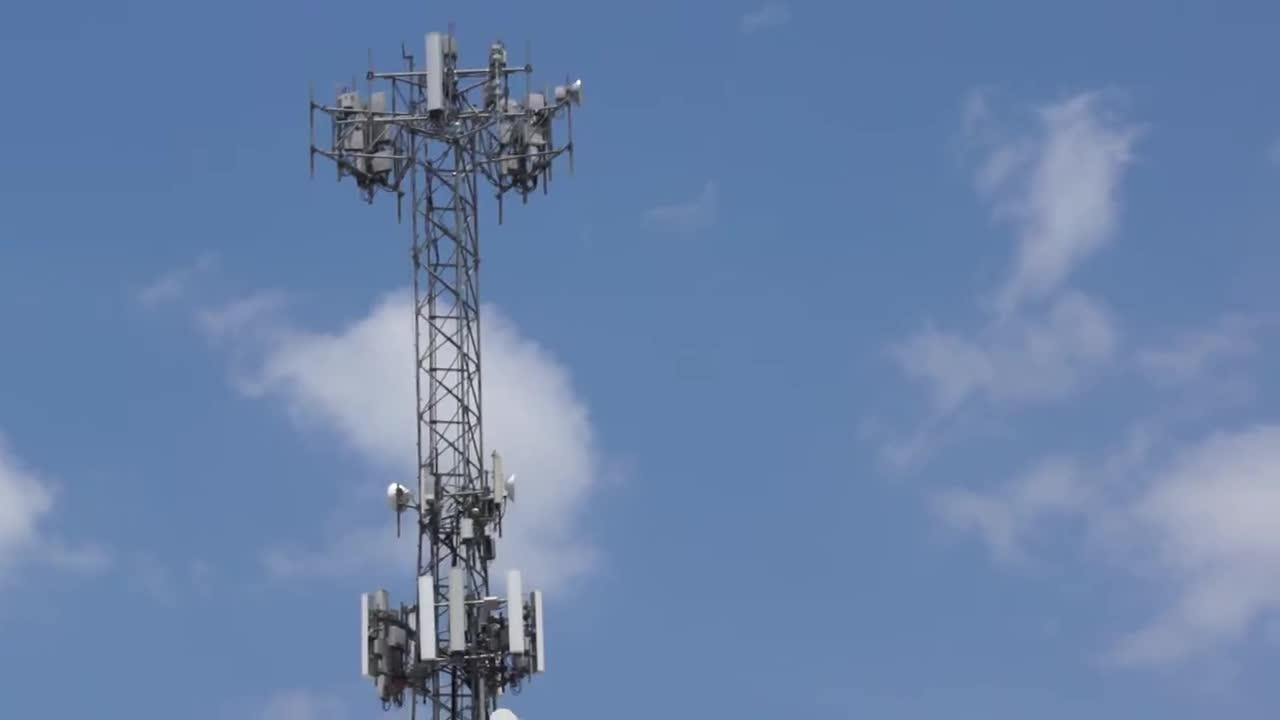Microwave Antenna: (377, 473, 419, 522), (557, 75, 591, 112), (503, 475, 524, 508)
antenna: (334, 81, 369, 185), (505, 565, 528, 660), (423, 29, 447, 120), (446, 567, 469, 660), (370, 86, 392, 179), (529, 584, 550, 675), (418, 574, 439, 663), (526, 91, 549, 172), (356, 592, 372, 683), (491, 445, 509, 510), (370, 577, 395, 622)
